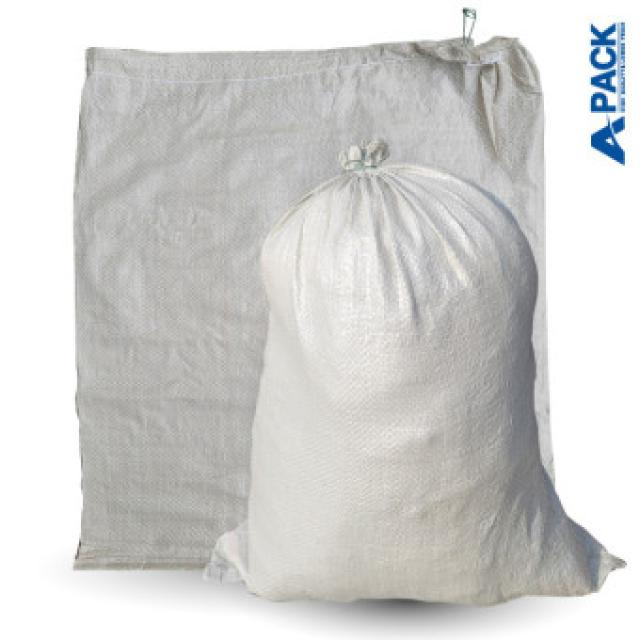PP bag: (60, 40, 596, 596), (207, 136, 628, 622)
